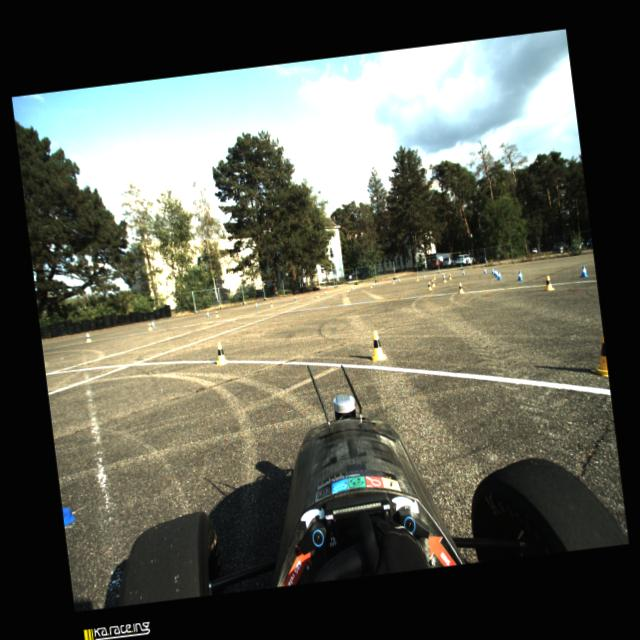blue_cone: (580, 264, 588, 276), (516, 270, 522, 281), (496, 270, 502, 280), (494, 269, 499, 277), (150, 321, 154, 326), (482, 268, 487, 272), (491, 267, 494, 273), (350, 284, 353, 290), (422, 274, 426, 278), (206, 311, 209, 316), (255, 302, 258, 306), (462, 269, 464, 274), (494, 269, 496, 274), (294, 296, 296, 300), (442, 272, 444, 276), (398, 278, 400, 282), (324, 290, 326, 294), (372, 282, 374, 286)
yellow_cone: (586, 333, 608, 379), (368, 328, 387, 361), (214, 341, 228, 365), (542, 274, 554, 290), (456, 281, 464, 293), (85, 332, 92, 342), (426, 281, 432, 290), (147, 322, 152, 330), (442, 275, 447, 282), (431, 278, 435, 286), (214, 310, 218, 317), (269, 300, 273, 306), (316, 292, 320, 298), (432, 274, 436, 280), (448, 274, 452, 280), (369, 283, 372, 288), (416, 276, 418, 282), (346, 286, 348, 292), (392, 280, 394, 284)
